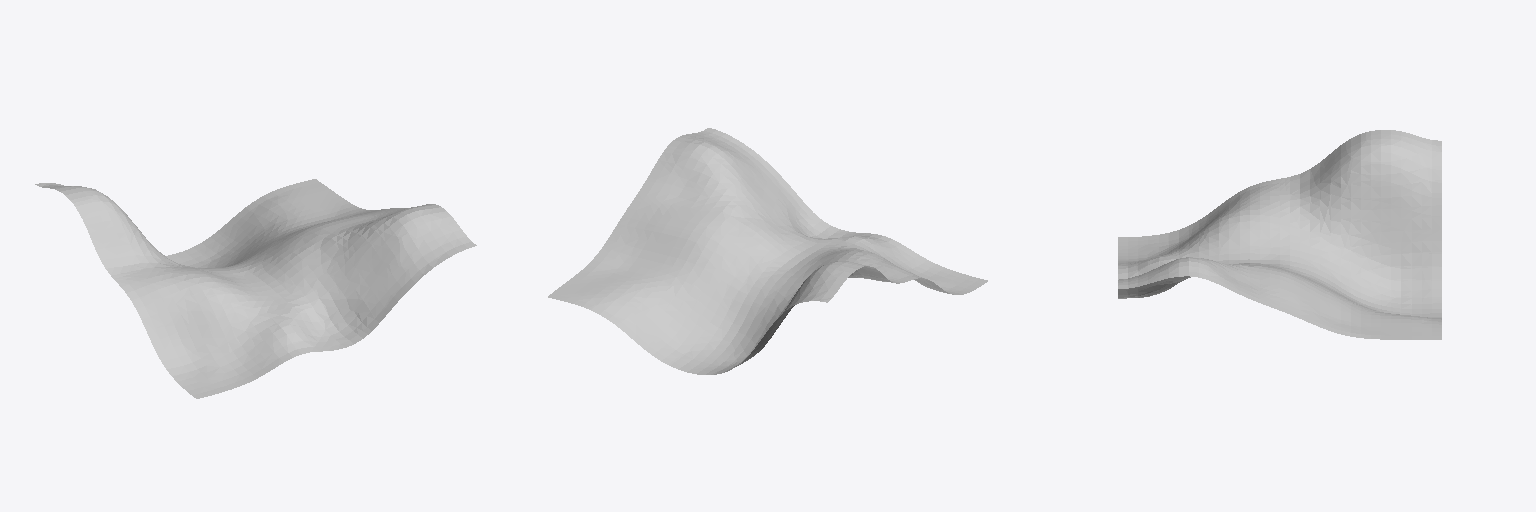
File: Mesh9_Poisson.obj
3 views of the same model, side by side, from view 1: azimuth 30°, elevation 25°; view 2: azimuth 150°, elevation 25°; view 3: azimuth 270°, elevation 25° (orthographic).
Bounding box in the file's own units: 2.77 × 1.09 × 2.77.